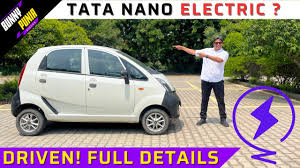Nano: (12, 44, 182, 135)
